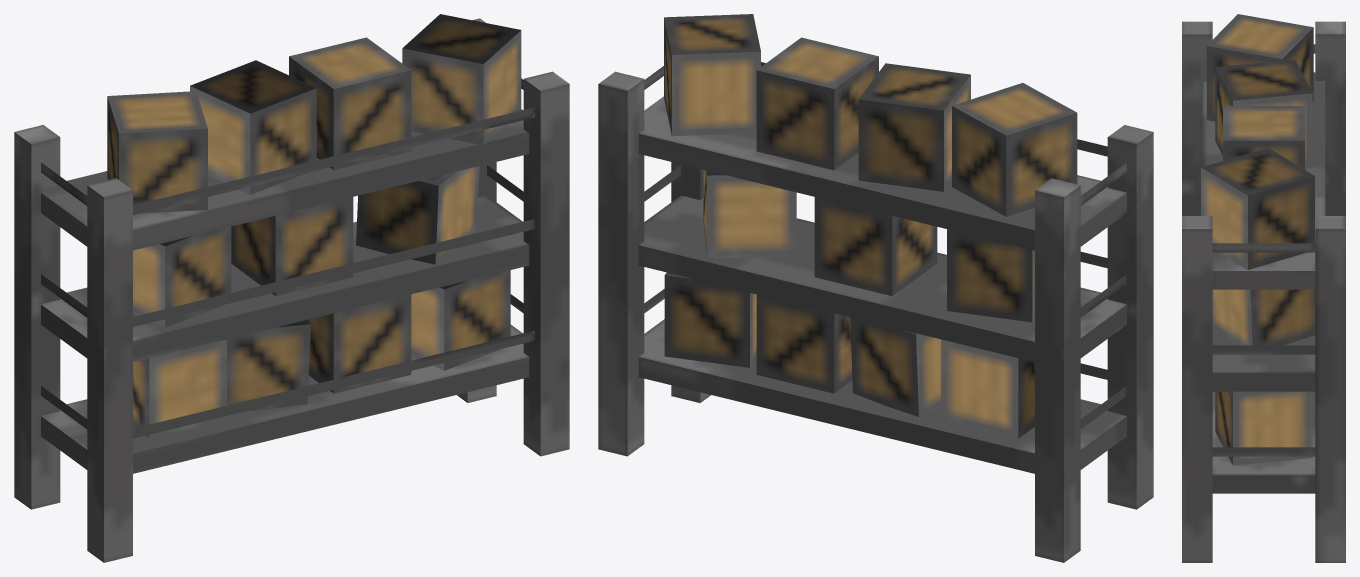
File: shelf (1).obj
3 views of the same model, side by side, from view 1: azimuth 30°, elevation 25°; view 2: azimuth 150°, elevation 25°; view 3: azimuth 270°, elevation 25° (orthographic). The views are drawn at different scales.
Visible parts, largest first — view 1: obj3, obj6, obj2, obj4, obj5, obj13, obj26, obj24, obj25, obj27, obj19, obj18 (+9 smaller); view 2: obj6, obj4, obj1, obj13, obj5, obj3, obj27, obj25, obj24, obj26, obj18, obj21 (+6 smaller); view 3: obj1, obj2, obj26, obj20, obj13, obj19, obj27, obj24, obj4, obj6, obj3, obj25 (+4 smaller).
Part boxes in pixels (x1,y1,x2,y2): obj3: [87, 178, 132, 562]; obj6: [41, 195, 529, 361]; obj2: [523, 71, 569, 456]; obj4: [14, 125, 60, 509]; obj5: [41, 324, 529, 473]; obj13: [41, 109, 529, 250]; obj26: [402, 14, 521, 145]; obj24: [190, 60, 316, 194]; obj25: [289, 37, 411, 170]; obj27: [107, 91, 207, 213]; obj19: [356, 166, 479, 264]; obj18: [231, 197, 353, 295]; obj6: [638, 195, 1126, 361]; obj4: [1035, 178, 1080, 562]; obj1: [598, 71, 644, 456]; obj13: [638, 96, 1126, 250]; obj5: [638, 319, 1126, 473]; obj3: [1107, 125, 1153, 509]; obj27: [952, 83, 1077, 216]; obj25: [756, 37, 878, 170]; obj24: [858, 63, 970, 191]; obj26: [664, 14, 760, 136]; obj18: [814, 197, 937, 296]; obj21: [756, 294, 852, 393]; obj1: [1315, 216, 1345, 562]; obj2: [1182, 216, 1212, 562]; obj26: [1201, 148, 1314, 269]; obj20: [1215, 391, 1312, 465]; obj13: [1202, 72, 1325, 289]; obj19: [1212, 289, 1315, 345]; obj27: [1206, 14, 1313, 121]; obj24: [1215, 59, 1312, 168]; obj4: [1315, 21, 1345, 215]; obj6: [1212, 327, 1315, 391]; obj3: [1182, 21, 1212, 215]; obj25: [1223, 106, 1304, 169].
Bounding box in the file's own units: 3 × 2.44 × 1.
1 material, 1 textured.
